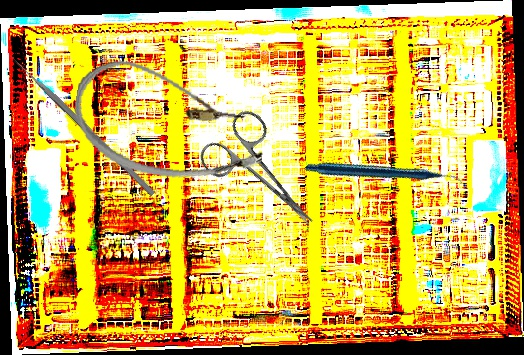Cannula: (66, 54, 274, 191)
Handpiece: (304, 98, 464, 253)
Iris Scissors: (192, 104, 338, 252)
Pusher: (5, 50, 156, 197)
